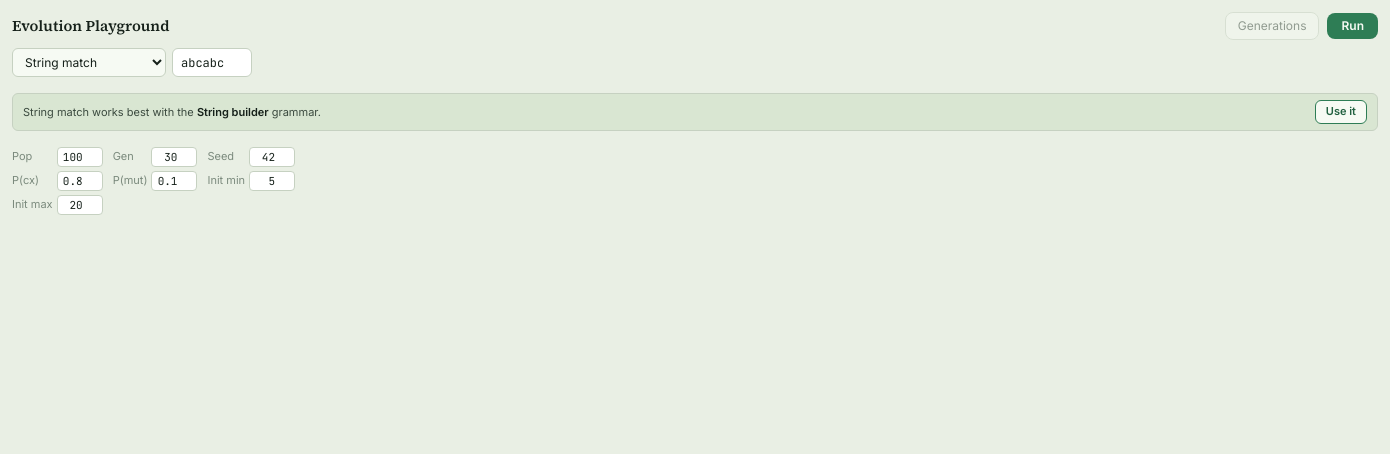
Test: EvolutionPanel › explains how a phenotype was scored
Click the button "Run".
click(1353, 26)  # box x1=1328 y1=13 x2=1378 y2=39
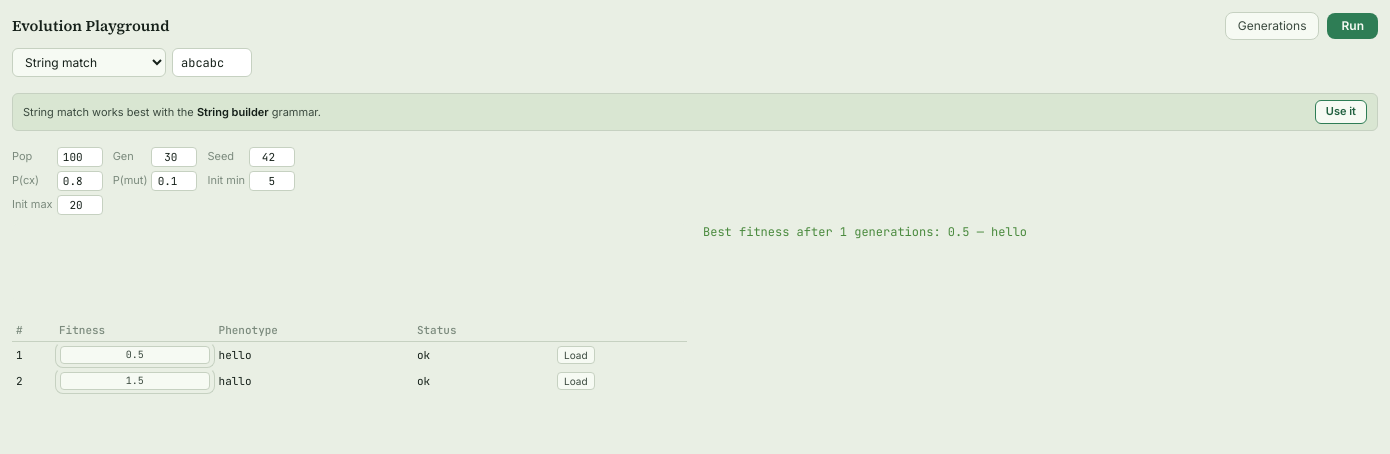
Expected: the text "hello" is shown, x1=214 y1=342 x2=413 y2=368
Click the button titled "How is this score calculated?".
click(135, 355)  # box x1=60 y1=346 x2=210 y2=364
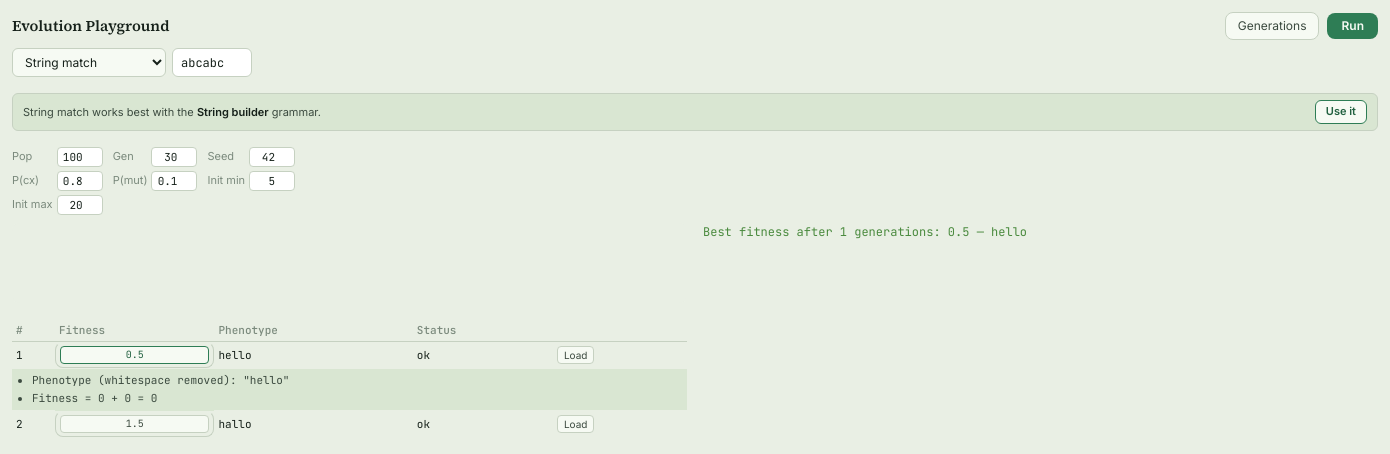
Expected: the list item "Phenotype (whitespace removed): \"hello\"" is shown, x1=32 y1=373 x2=289 y2=387
// Clicking again collapses the detail row.
Click the button titled "How is this score calculated?".
click(135, 355)  # box x1=60 y1=346 x2=210 y2=364
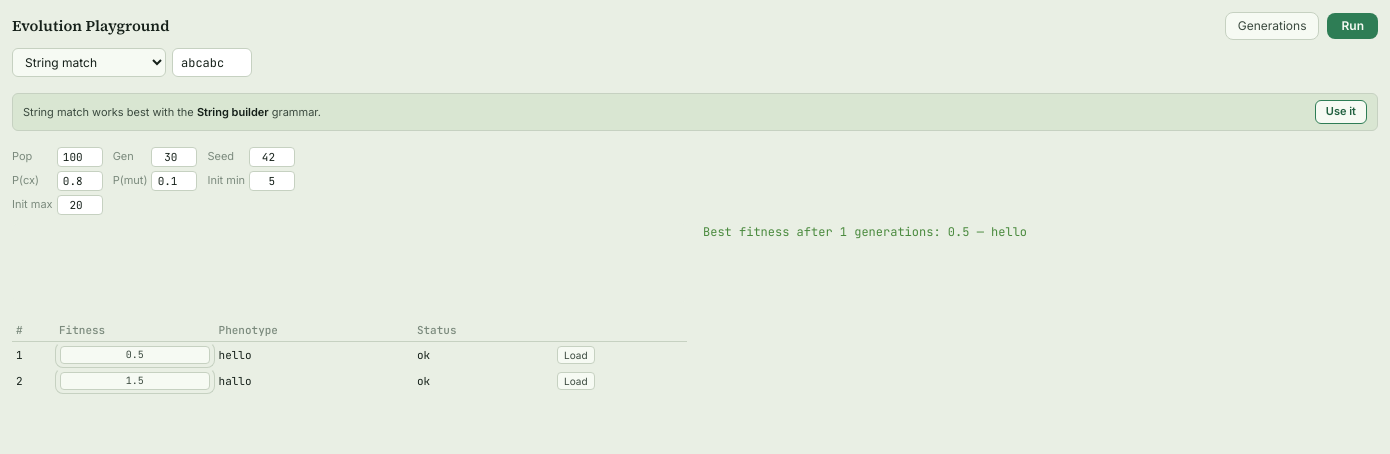
Expected: the list item "Phenotype (whitespace removed)" is gone
